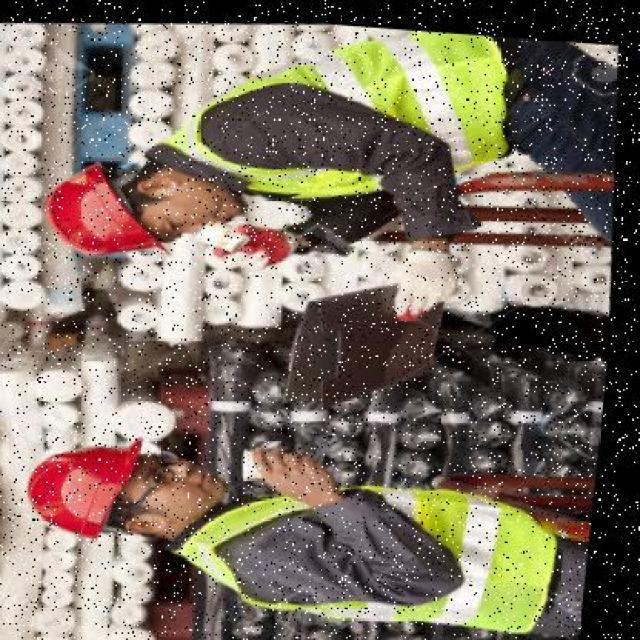helmet: (25, 420, 170, 546), (46, 145, 195, 263)
vest: (177, 454, 593, 638), (177, 11, 525, 207)
